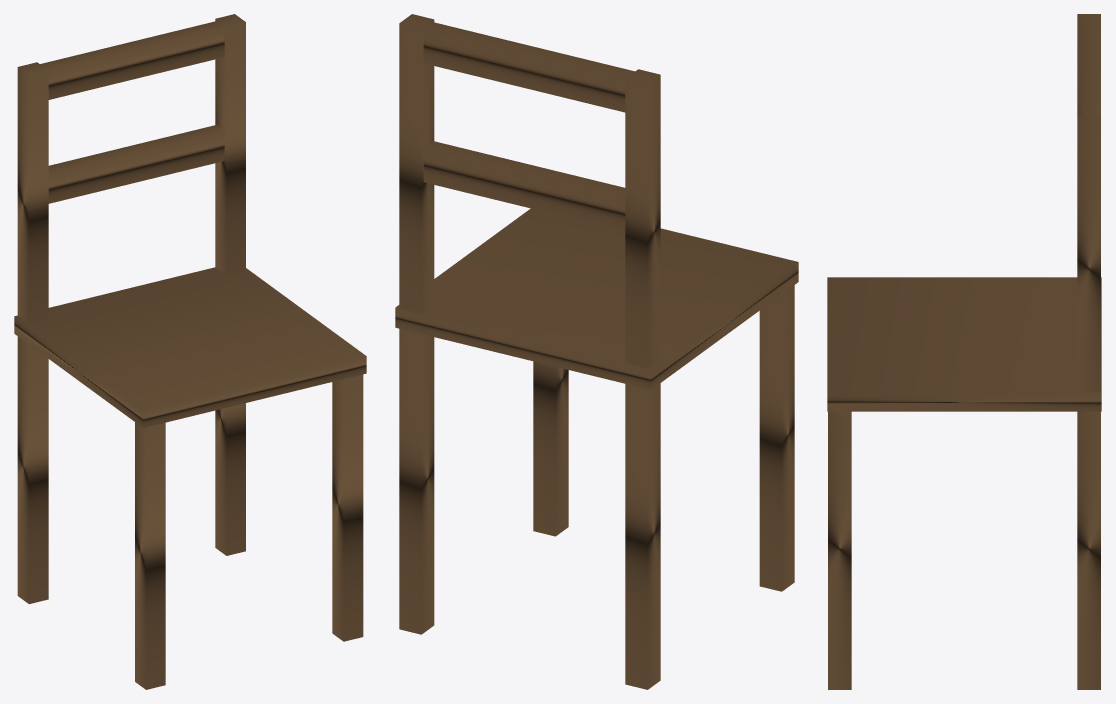
Rendered from chair.glb.
3 renders of one model, left to right at view 1: azimuth 30°, elevation 25°; view 2: azimuth 150°, elevation 25°; view 3: azimuth 270°, elevation 25°, orthographic. The views are drawn at different scales.
Visible parts, largest first — view 1: Leggin.007; view 2: Leggin.007; view 3: Leggin.007.
Boxes of the visible parts, bbox=[...] form: Leggin.007: bbox=[14, 14, 366, 689]; Leggin.007: bbox=[395, 14, 798, 689]; Leggin.007: bbox=[827, 14, 1101, 689].
Size of the model in its own units: 2 by 4.53 by 2.
